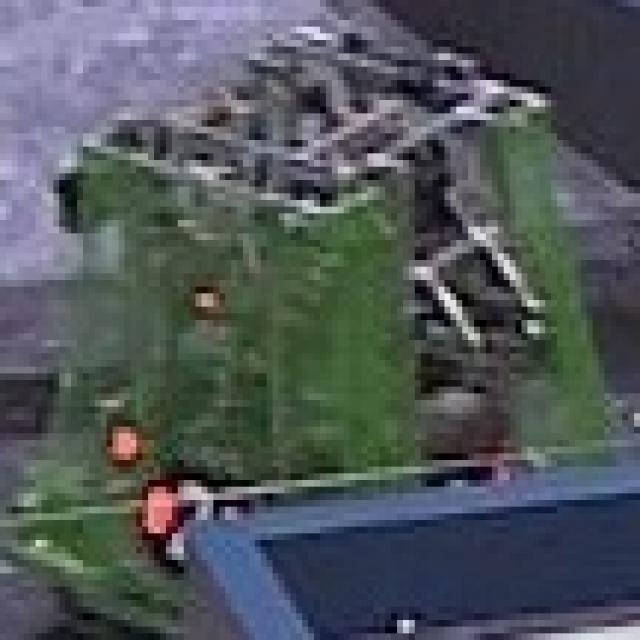R2: (136, 453, 243, 580)
